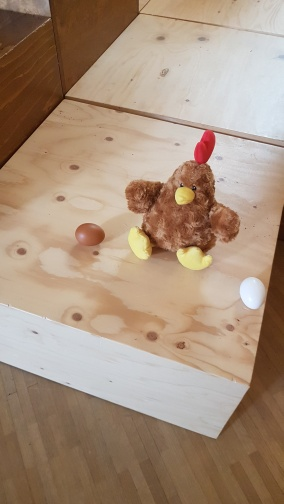chicken: (124, 128, 244, 273)
egg: (239, 275, 268, 311), (73, 221, 108, 247)
